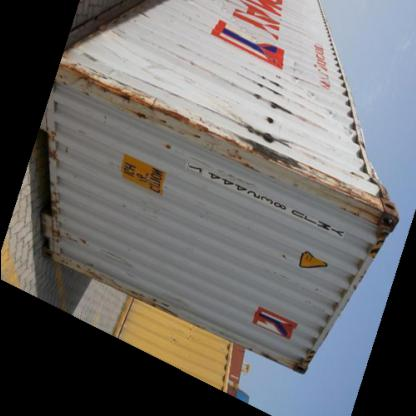Damage: (50, 55, 214, 136), (238, 64, 302, 168), (340, 138, 390, 256), (51, 204, 110, 276), (158, 140, 180, 160)
